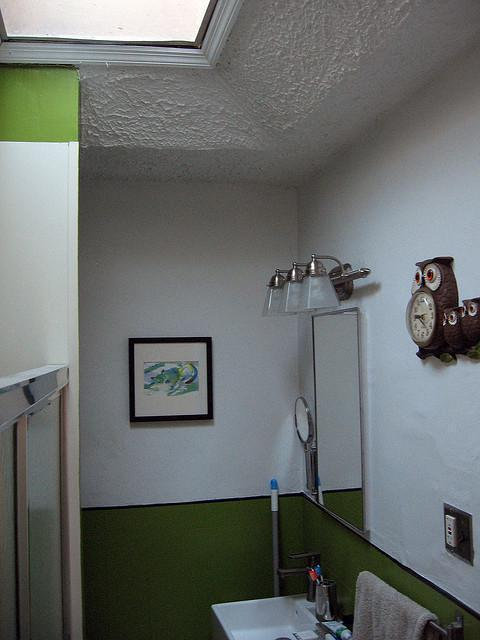Ducha: (0, 363, 75, 639)
Lavamanos: (207, 569, 341, 639)
